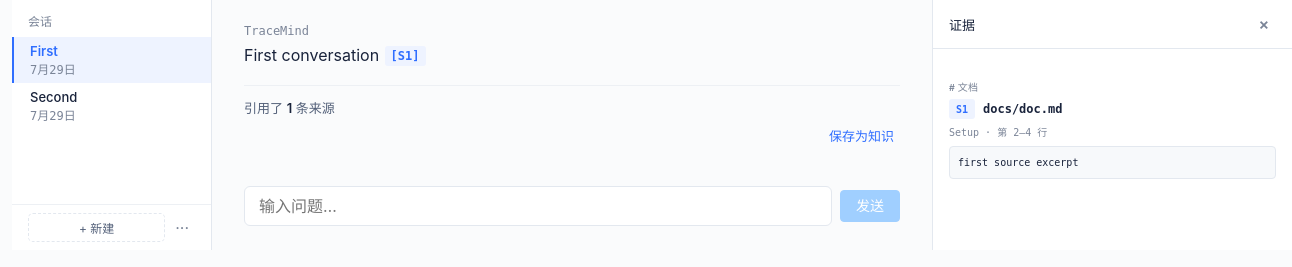
Test case: ConversationView › resets evidence selection when switching conversations
Expected: the element with test id "evidence-source-a1-S1" is shown, [949,65,1276,193]
Step 1. Click the button with test id "conversation-c2" → {"x": 112, "y": 106}, box [12,83,211,129]
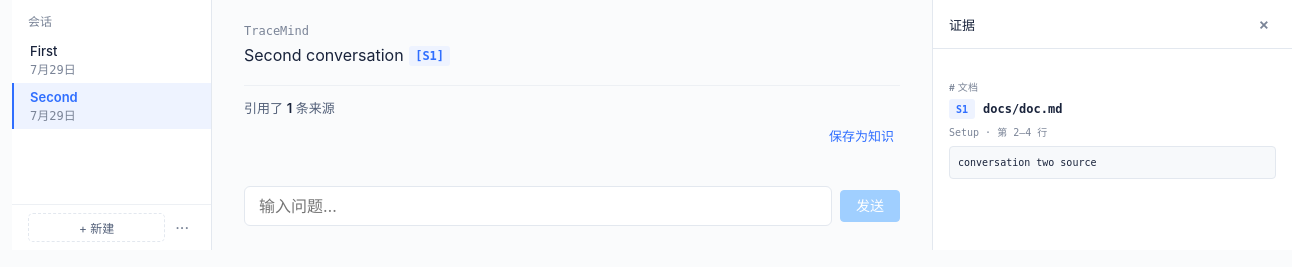
Now the element with test id "evidence-source-b1-S1" shows "conversation two source", box [958,157,1096,168]
